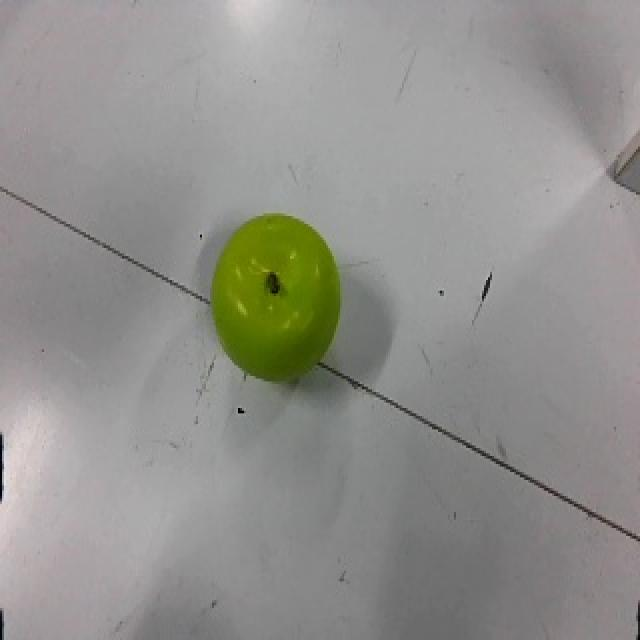apple: (211, 212, 344, 385)
